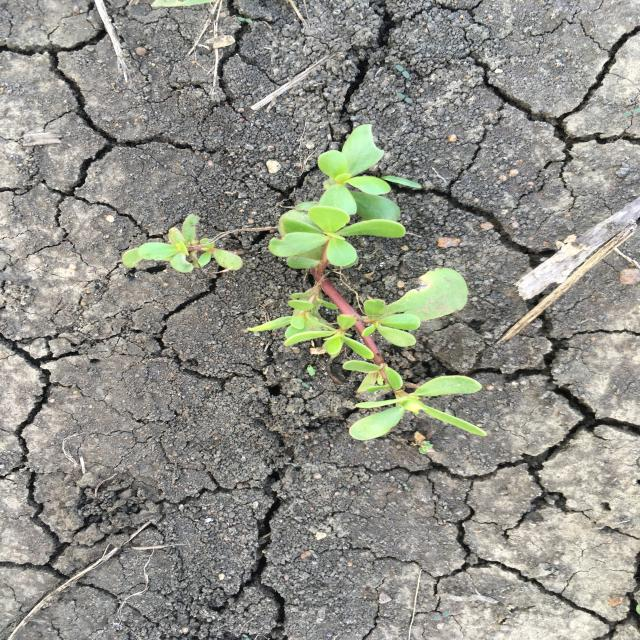Purslane: (243, 122, 494, 444), (118, 211, 247, 275)
